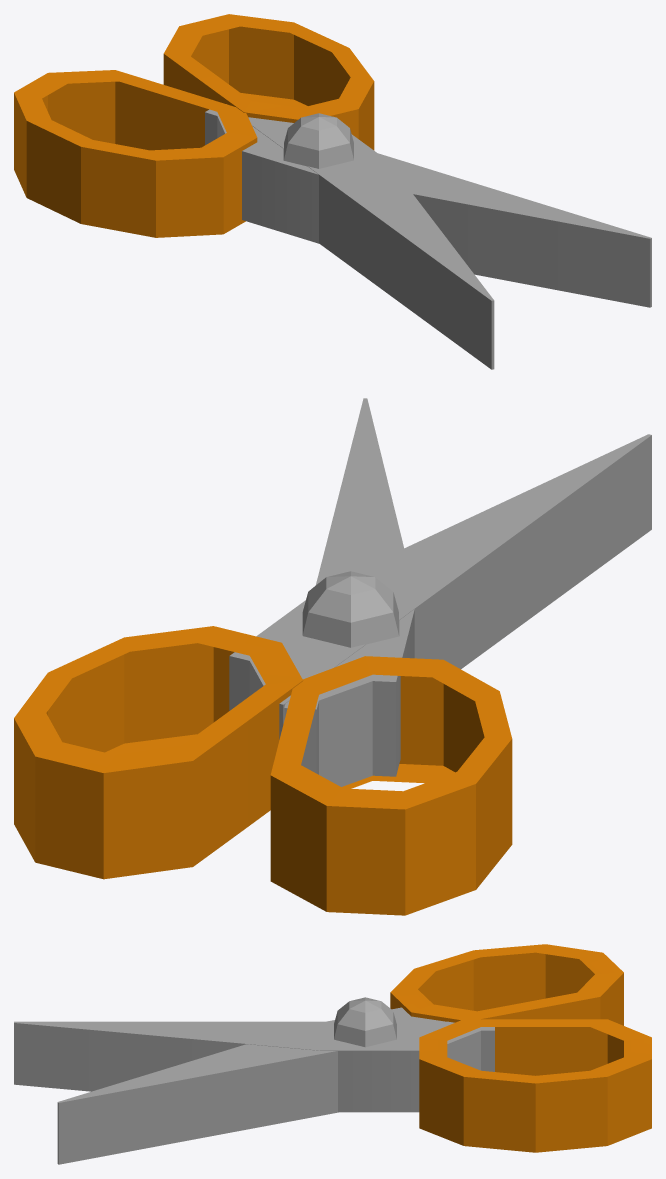
The model's file is scissors.fbx.
3 views of the same model, one above another, from view 1: azimuth 30°, elevation 25°; view 2: azimuth 150°, elevation 25°; view 3: azimuth 270°, elevation 25° (orthographic). The views are drawn at different scales.
Parts seen in each view (by area): view 1: polySurface3, polySurface4, polySurface2, polySurface1, pSphere1; view 2: polySurface1, polySurface3, polySurface2, polySurface4, pSphere1; view 3: polySurface1, polySurface2, polySurface4, polySurface3, pSphere1.
Part boxes in pixels (x1,y1,x2,y2): polySurface3: (14, 70, 257, 237); polySurface4: (205, 109, 651, 307); polySurface2: (248, 117, 494, 369); polySurface1: (163, 14, 374, 150); pSphere1: (283, 113, 353, 168); polySurface1: (14, 626, 303, 879); polySurface3: (270, 656, 512, 915); polySurface2: (229, 434, 651, 739); polySurface4: (284, 398, 414, 786); pSphere1: (302, 571, 399, 647); polySurface1: (419, 1019, 651, 1152); polySurface2: (14, 1021, 494, 1112); polySurface4: (57, 1007, 444, 1164); polySurface3: (390, 944, 623, 1025); pSphere1: (334, 997, 396, 1047).
Size of the model in its own units: 5.37 by 1.57 by 9.36.
